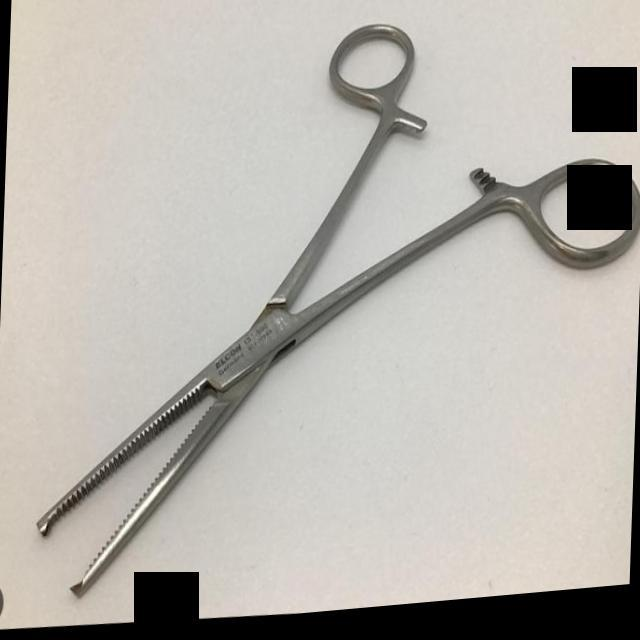Kocher Forceps: (30, 0, 640, 627)
